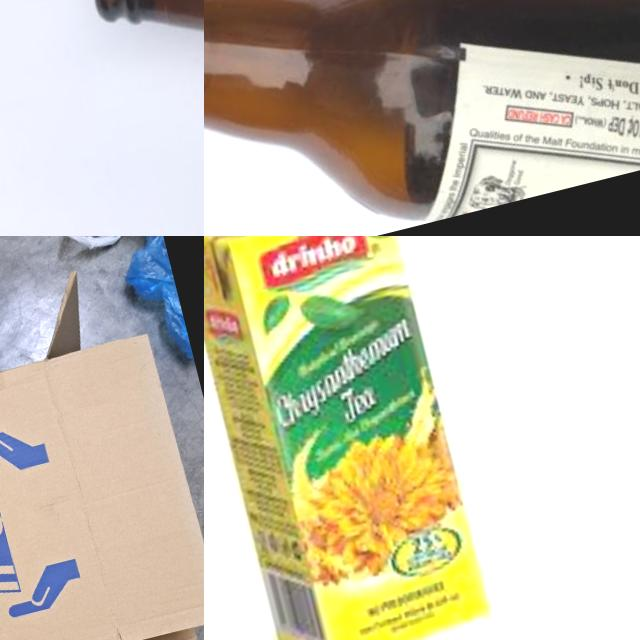caixinha: (204, 236, 499, 640)
garrafa de vidro: (204, 0, 640, 236), (78, 0, 204, 209)
papelão: (0, 254, 204, 640)
sacola plástica: (107, 236, 194, 372), (43, 236, 162, 256)
